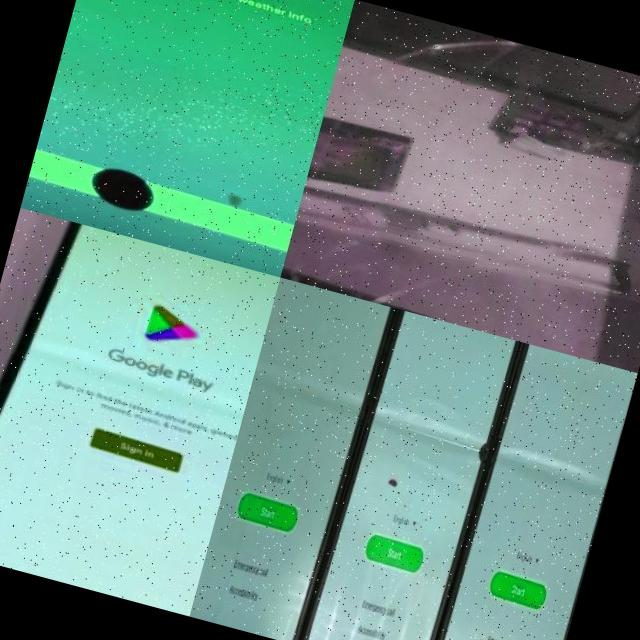dead pixel: (34, 123, 202, 249), (464, 431, 506, 479), (214, 183, 257, 223), (378, 464, 410, 506)
screen crack: (279, 176, 618, 360), (358, 5, 634, 158)
